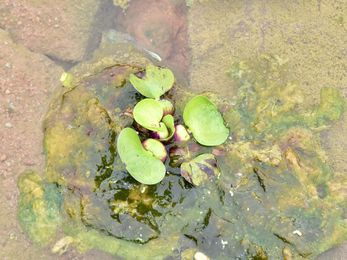water_hyacinth: (105, 54, 235, 192)
